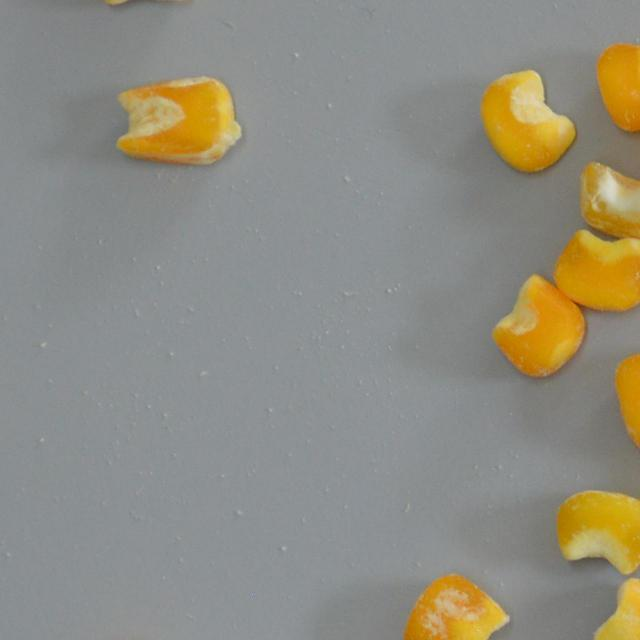no_canjicado: (558, 490, 640, 575)
pelicula: (112, 75, 242, 166), (492, 270, 585, 378), (480, 69, 576, 172), (403, 566, 510, 640), (578, 160, 640, 242), (596, 42, 640, 132), (590, 576, 640, 640), (614, 342, 640, 456)
